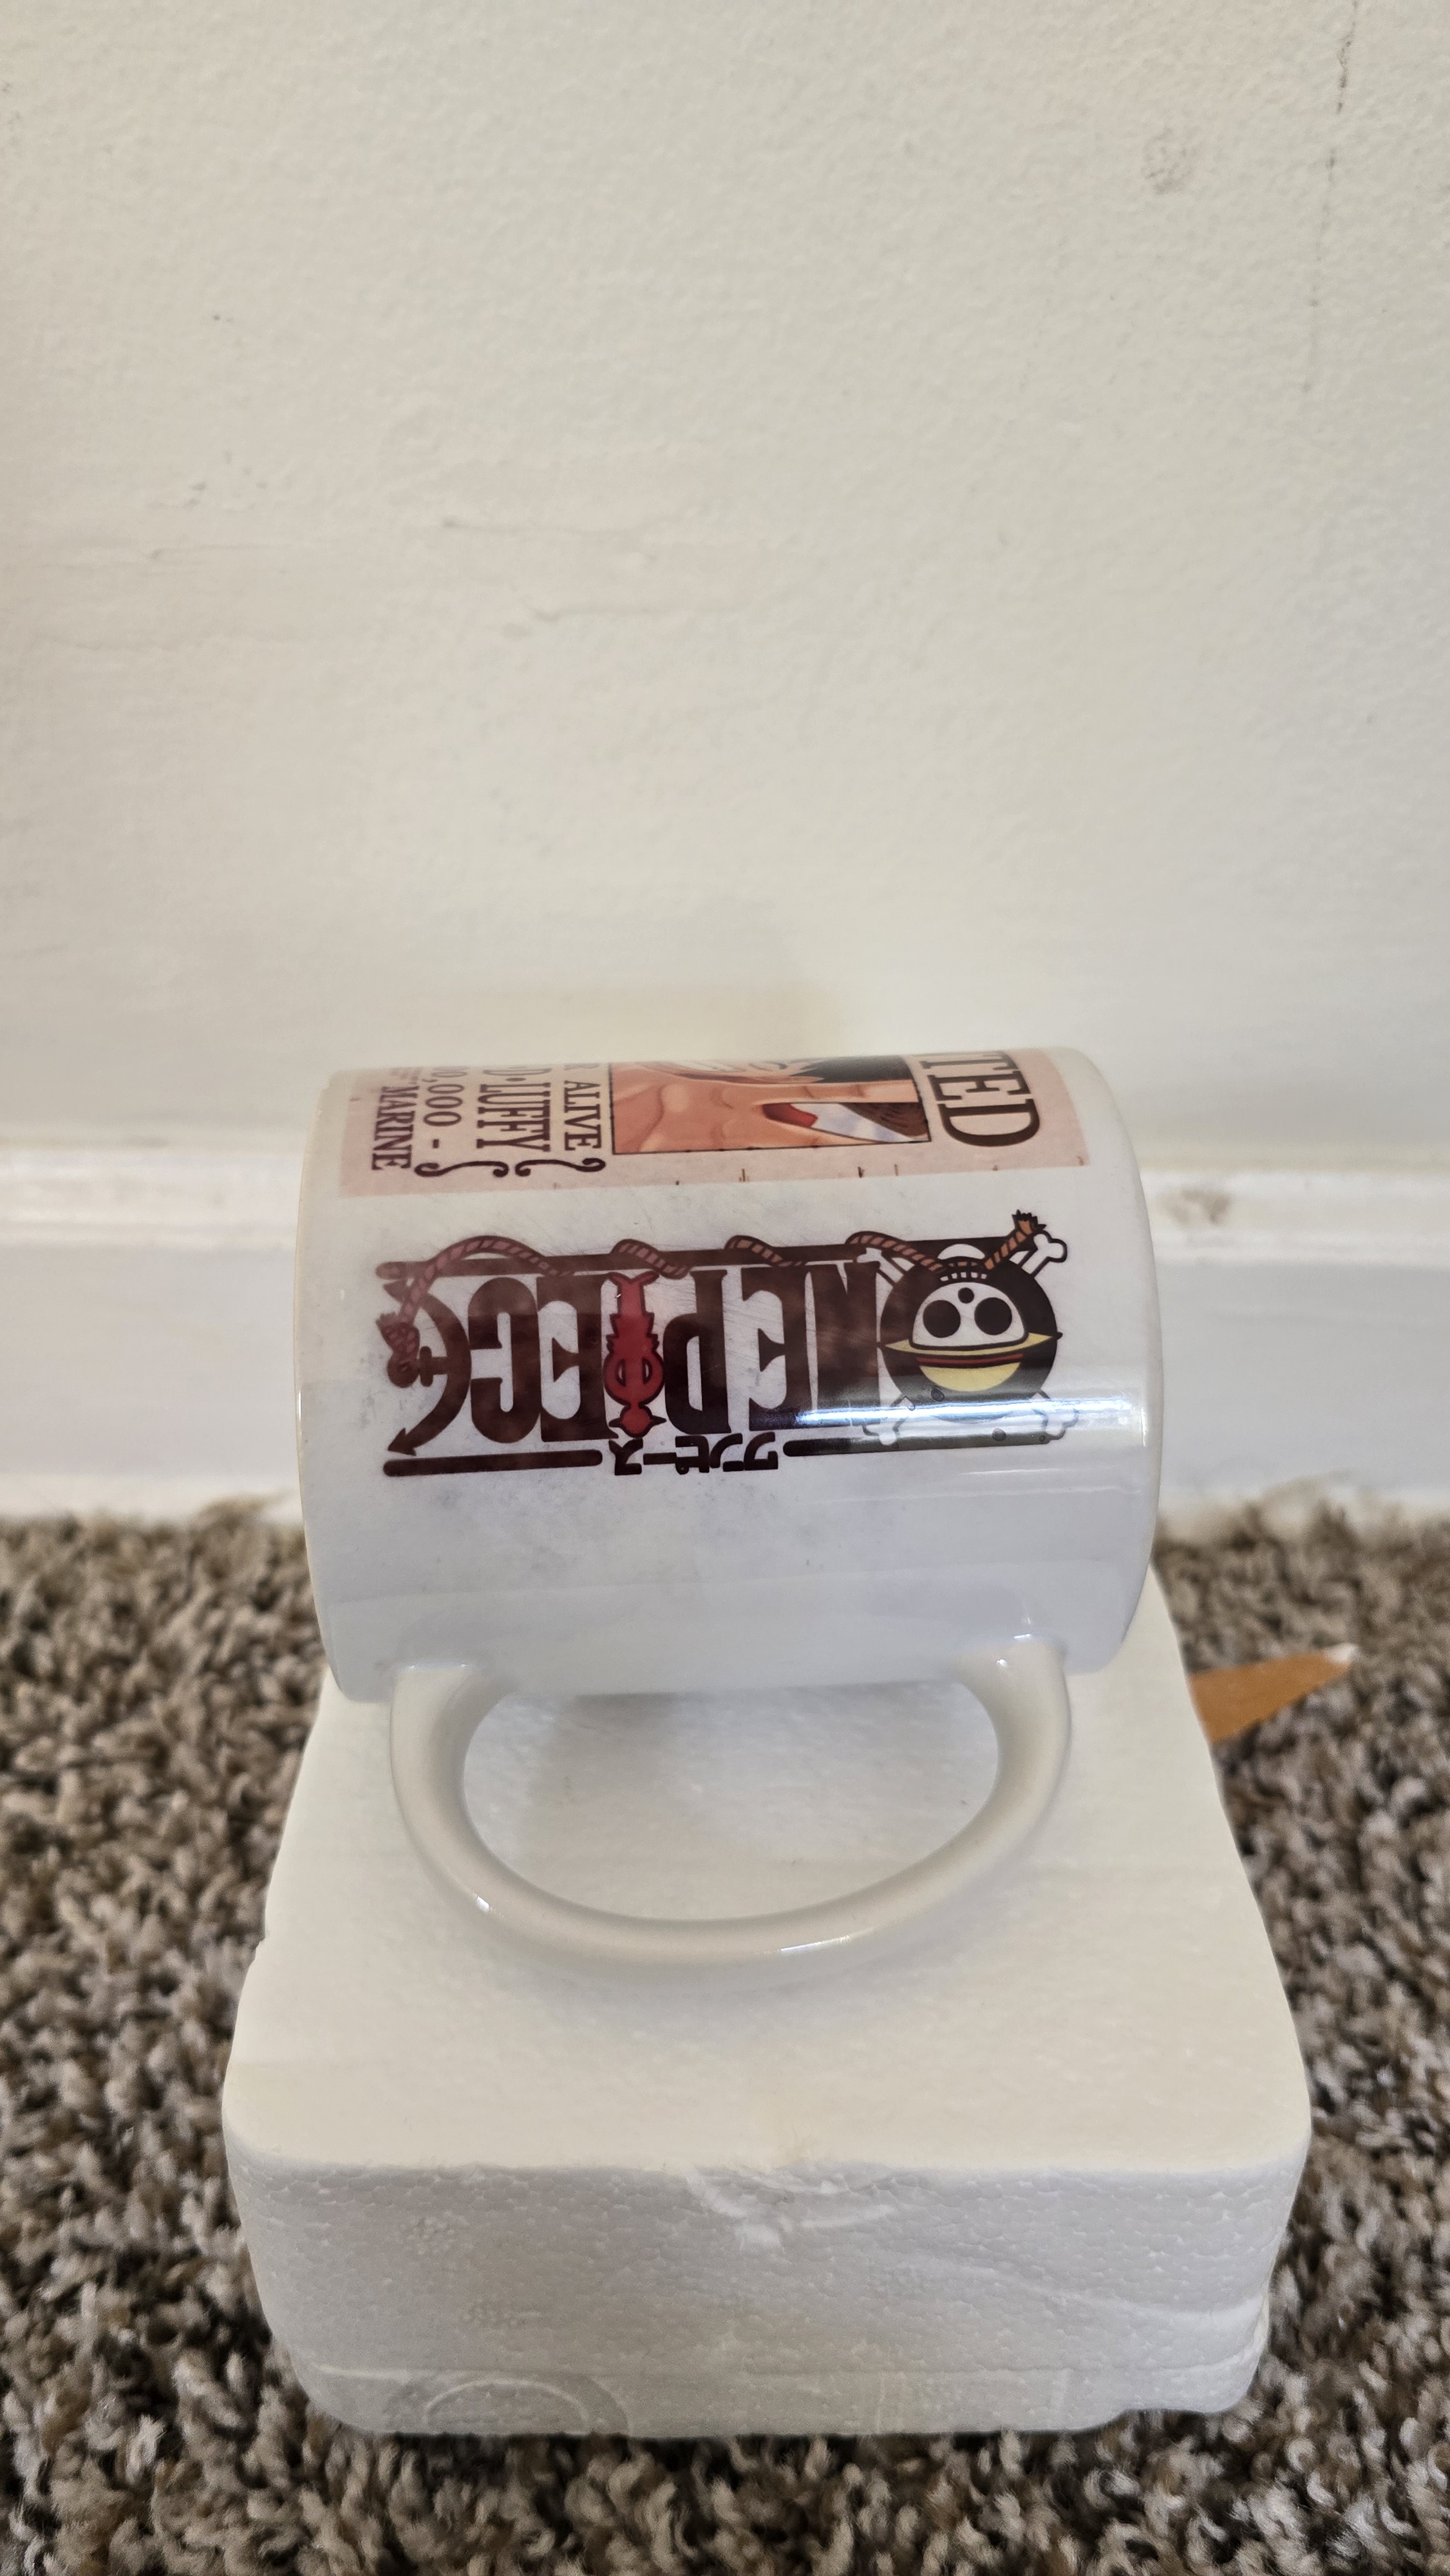mug: (232, 982, 1298, 1999)
